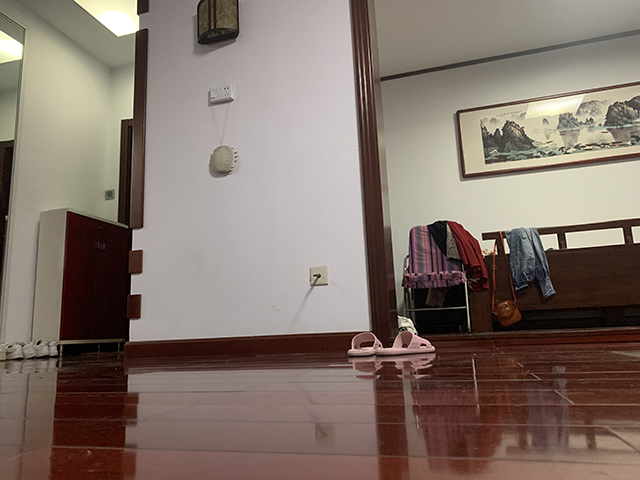bed: (464, 217, 640, 335)
cabinet: (29, 205, 128, 356)
slippers: (377, 330, 435, 357), (346, 331, 385, 359)
stool: (401, 218, 490, 334)
